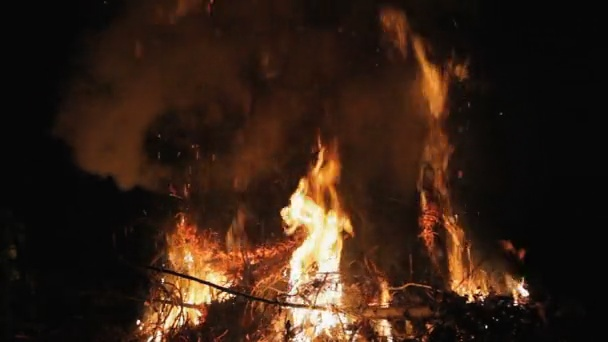fire: (284, 171, 344, 333), (152, 229, 232, 339), (419, 61, 449, 187), (442, 220, 487, 299), (507, 277, 527, 302), (373, 284, 392, 307), (379, 318, 391, 333)
